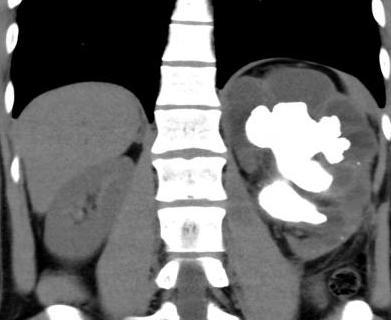Tas_Var: (242, 99, 352, 203), (257, 176, 329, 232), (338, 233, 346, 243), (356, 162, 364, 168)
